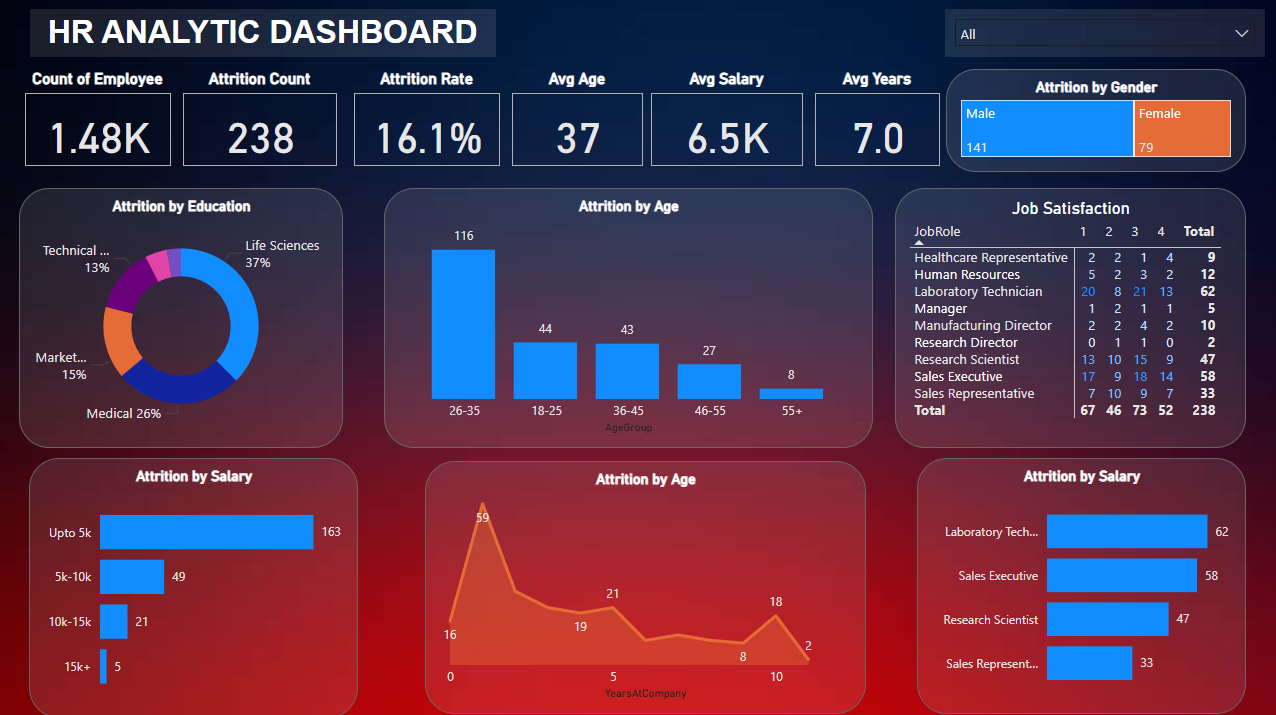

The page's visual inventory and layout, read from the dashboard file:
{"tool":"powerbi","page":{"name":"Page 1","canvas":[1280,720],"ordinal":0},"visuals":[{"type":"cardVisual","title":"Count of Employee","fields":{"Data":["CountNonNull(HR_Analytics.EmpID)"]},"box":[20,71.1,157.8,103.3],"z":0},{"type":"cardVisual","title":"Attrition Rate","fields":{"Data":["HR_Analytics.AttritionRate"]},"box":[348.9,71.1,157.8,103.3],"z":1000},{"type":"cardVisual","title":"Avg Age","fields":{"Data":["Avg(HR_Analytics.Age)"]},"box":[506.7,71.1,143.3,103.3],"z":2000},{"type":"cardVisual","title":"Attrition Count","fields":{"Data":["Sum(HR_Analytics.AttritionCount)"]},"box":[177.8,71.1,166.7,103.3],"z":3000},{"type":"cardVisual","title":"Avg Salary","fields":{"Data":["Avg(HR_Analytics.MonthlyIncome)"]},"box":[645.6,71.1,164.4,103.3],"z":4000},{"type":"cardVisual","title":"Avg Years","fields":{"Data":["Avg(HR_Analytics.YearsAtCompany)"]},"box":[810,71.1,136.7,103.3],"z":5000},{"type":"donutChart","title":"Attrition by Education","fields":{"Category":["HR_Analytics.EducationField"],"Y":["Sum(HR_Analytics.AttritionCount)"]},"box":[20,190,324.4,260],"z":6000},{"type":"columnChart","title":"Attrition by Age","fields":{"Category":["HR_Analytics.AgeGroup"],"Y":["Sum(HR_Analytics.AttritionCount)"]},"box":[385.5,189.7,488.7,260.2],"z":7000},{"type":"pivotTable","title":"Job Satisfaction","fields":{"Rows":["HR_Analytics.JobRole"],"Columns":["HR_Analytics.JobSatisfaction"],"Values":["Sum(HR_Analytics.AttritionCount)"]},"box":[895.6,190,351.1,260],"z":8000},{"type":"barChart","title":"Attrition by Salary","fields":{"Category":["HR_Analytics.SalarySlab"],"Y":["Sum(HR_Analytics.AttritionCount)"]},"box":[30,460,328.9,260],"z":9000},{"type":"barChart","title":"Attrition by Salary","fields":{"Category":["HR_Analytics.JobRole"],"Y":["Sum(HR_Analytics.AttritionCount)"]},"box":[917.8,460,328.9,255.6],"z":10000},{"type":"areaChart","title":"Attrition by Age","fields":{"Category":["HR_Analytics.YearsAtCompany"],"Y":["Sum(HR_Analytics.AttritionCount)"]},"box":[425.6,463.3,441.1,252.2],"z":11000},{"type":"treemap","title":"Attrition by Gender","fields":{"Group":["HR_Analytics.Gender"],"Values":["Sum(HR_Analytics.AttritionCount)"]},"box":[946.7,71.1,300,103.3],"z":12000},{"type":"textbox","box":[31.2,11.1,465.6,48.4],"z":13000},{"type":"slicer","fields":{"Values":["HR_Analytics.Department"]},"box":[946.4,11.1,319.5,48.4],"z":14000}]}

Visuals, with their boxes in screenshot pixels (x1, y1, x2, y2), scaled from the page's 1280x720 canvas onto the 1276x715 screenshot:
"Count of Employee" cardVisual: l=20, t=71, r=177, b=173
"Attrition Rate" cardVisual: l=348, t=71, r=505, b=173
"Avg Age" cardVisual: l=505, t=71, r=648, b=173
"Attrition Count" cardVisual: l=177, t=71, r=343, b=173
"Avg Salary" cardVisual: l=644, t=71, r=807, b=173
"Avg Years" cardVisual: l=807, t=71, r=944, b=173
"Attrition by Education" donutChart: l=20, t=189, r=343, b=447
"Attrition by Age" columnChart: l=384, t=188, r=871, b=447
"Job Satisfaction" pivotTable: l=893, t=189, r=1243, b=447
"Attrition by Salary" barChart: l=30, t=457, r=358, b=714
"Attrition by Salary" barChart: l=915, t=457, r=1243, b=711
"Attrition by Age" areaChart: l=424, t=460, r=864, b=711
"Attrition by Gender" treemap: l=944, t=71, r=1243, b=173
textbox: l=31, t=11, r=495, b=59
slicer - HR_Analytics.Department: l=943, t=11, r=1262, b=59
